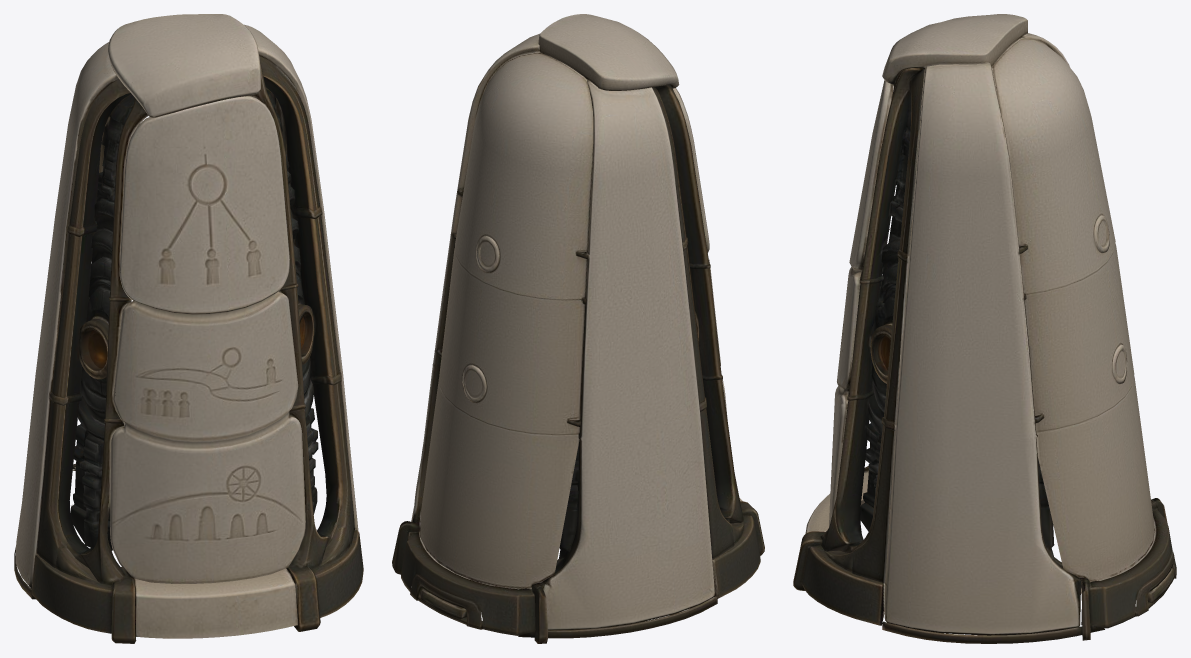
Rendered from narrated-claim.glb.
The picture shows the model from 3 angles, left to right: view 1: azimuth 30°, elevation 25°; view 2: azimuth 150°, elevation 25°; view 3: azimuth 270°, elevation 25°; orthographic projection. The views are drawn at different scales.
Parts seen in each view (by area): view 1: tripo_3d691bb9_d78d_46ca_a858_b12e7ca0f620; view 2: tripo_3d691bb9_d78d_46ca_a858_b12e7ca0f620; view 3: tripo_3d691bb9_d78d_46ca_a858_b12e7ca0f620.
Part boxes in pixels (box(x1,y1,x2,y2)): tripo_3d691bb9_d78d_46ca_a858_b12e7ca0f620: box(14, 14, 363, 643); tripo_3d691bb9_d78d_46ca_a858_b12e7ca0f620: box(392, 14, 764, 643); tripo_3d691bb9_d78d_46ca_a858_b12e7ca0f620: box(793, 14, 1176, 643).
Size of the model in its own units: 0.5815 by 0.9995 by 0.6401.
Materials: 1 (1 with a texture image).
